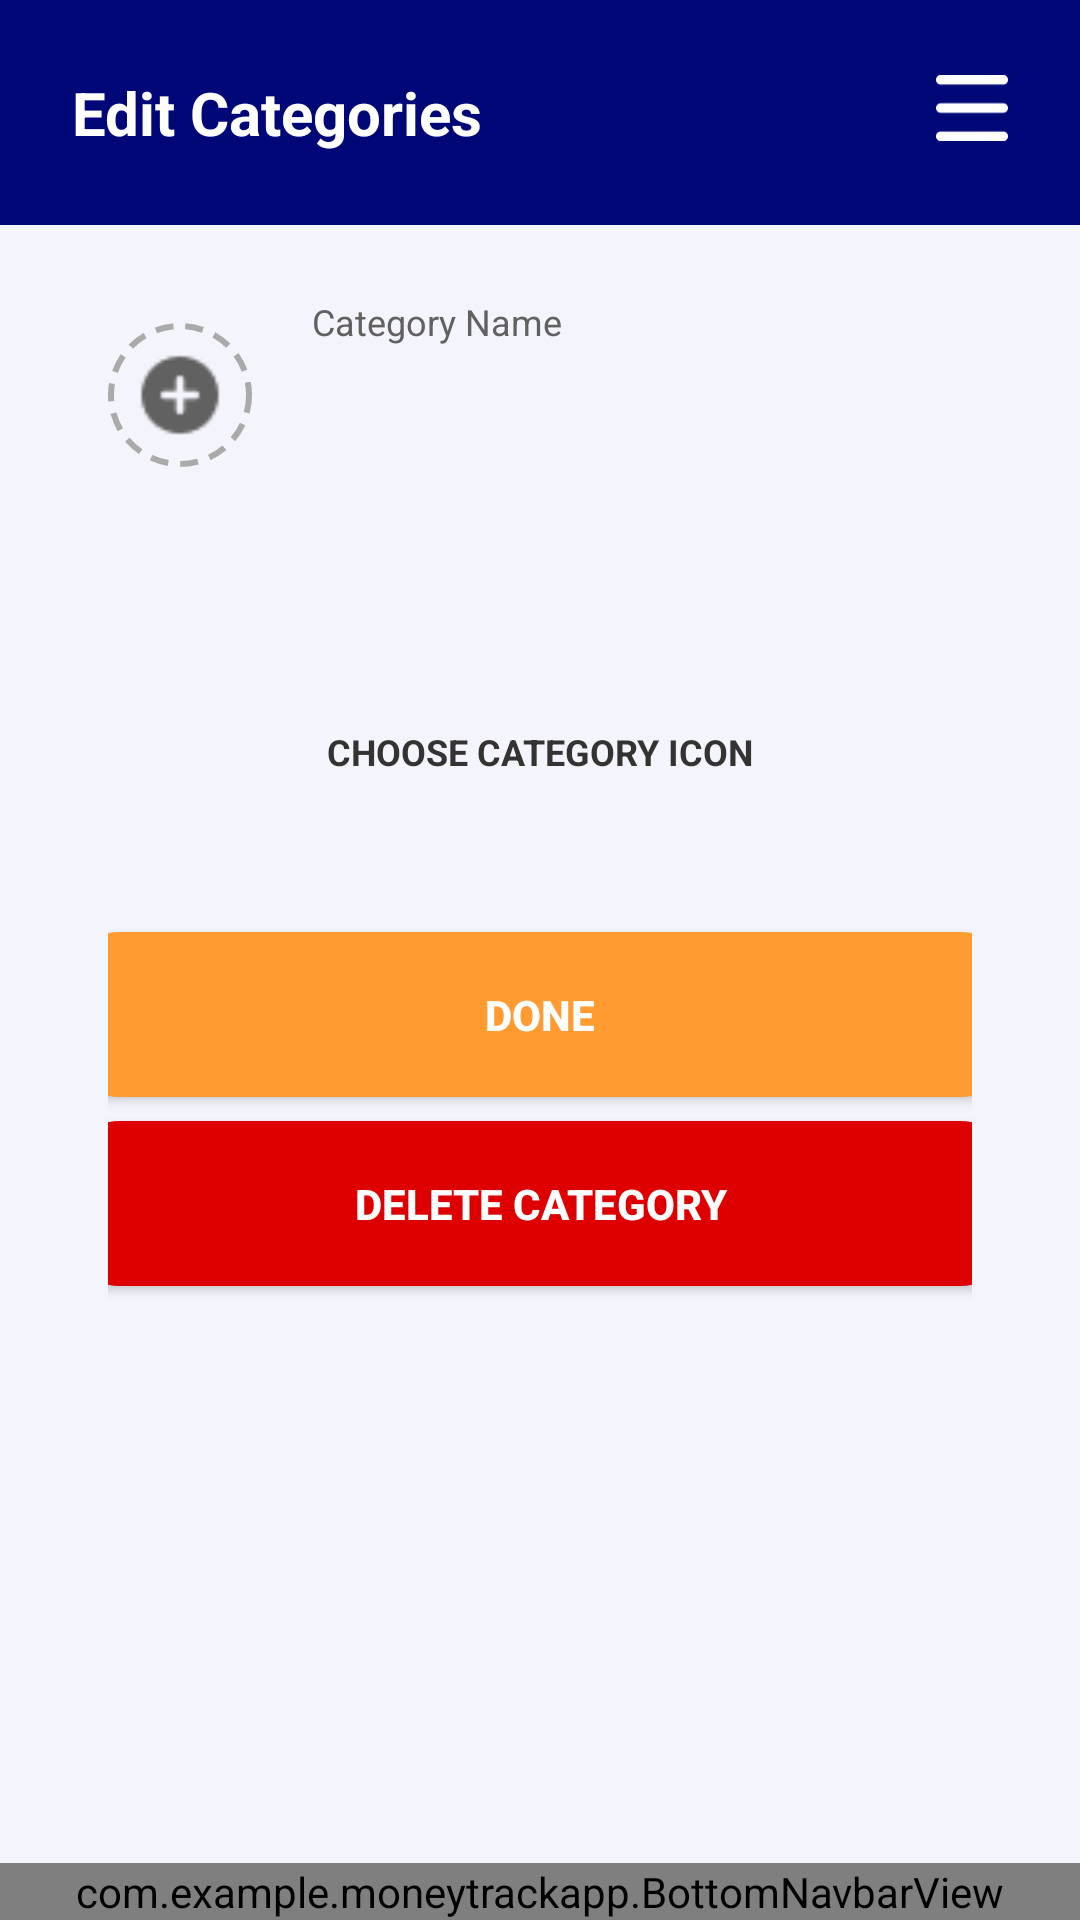

Icons on this 1080w x 1920h Android screen, each with the point to tap as [x,y]:
Add Icon: [180,395]
Menu: [972,108]
